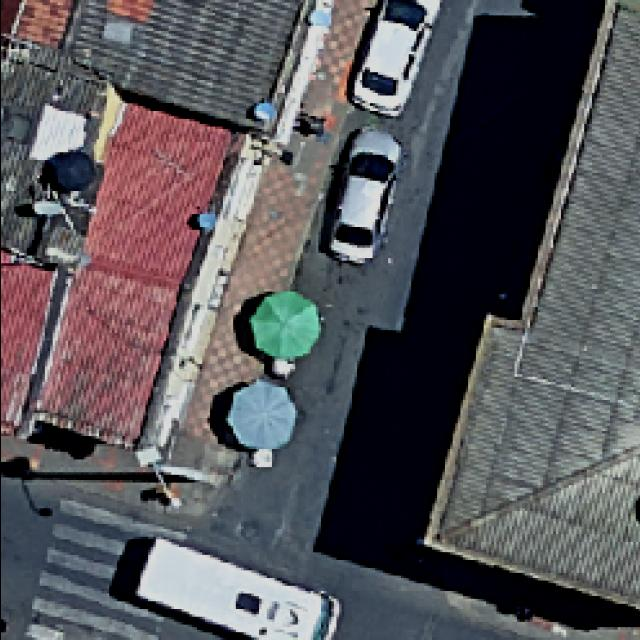vendedor_ambulante: (222, 376, 298, 452), (246, 288, 322, 360)
